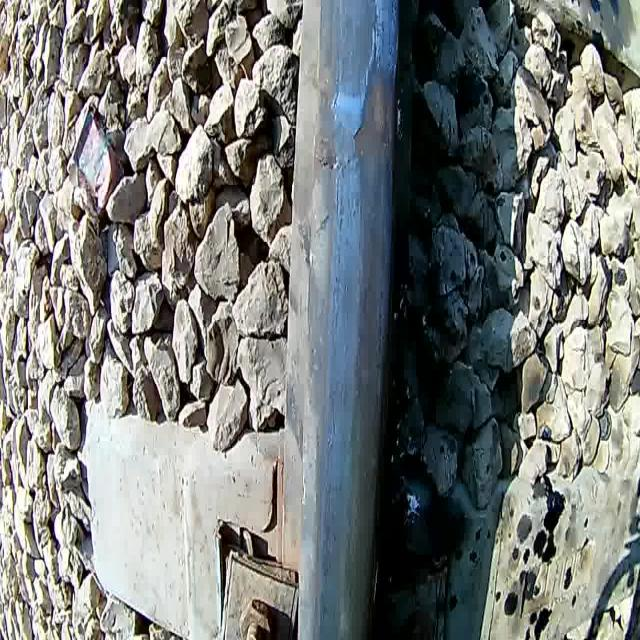Squats: (306, 0, 404, 180)
